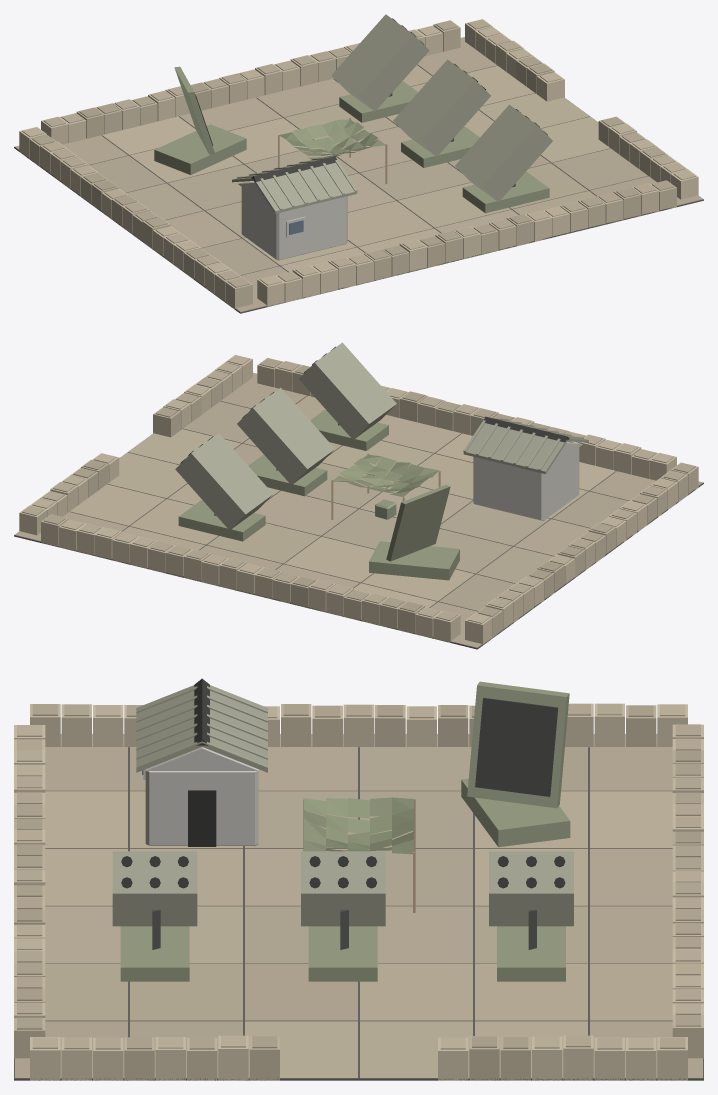
The model's file is b_domesite.glb.
The picture shows the model from 3 angles, top to bottom: view 1: azimuth 30°, elevation 25°; view 2: azimuth 150°, elevation 25°; view 3: azimuth 270°, elevation 25°; orthographic projection. The views are drawn at different scales.
Parts seen in each view (by area): view 1: hull; view 2: hull; view 3: hull.
Part boxes in pixels (<box>): hull: <box>14,14,703,313</box>; hull: <box>14,342,703,649</box>; hull: <box>14,678,703,1080</box>.
Size of the model in its own units: 26 by 4.55 by 22.
